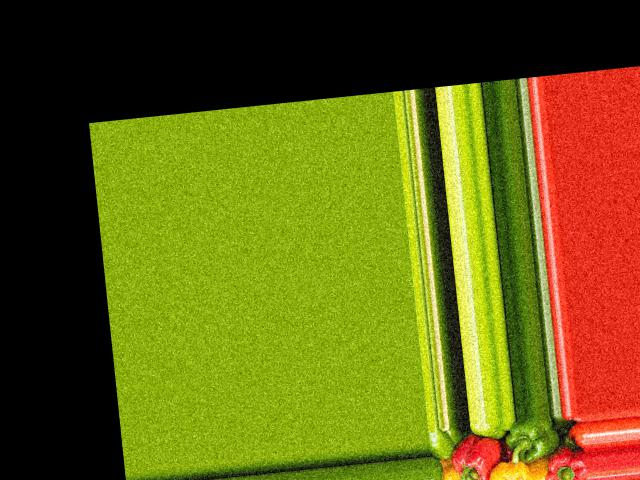bell_pepper: (536, 445, 588, 480)
